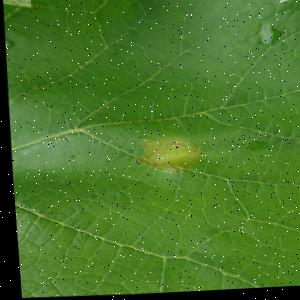Folha: (0, 0, 300, 300)
Fungo: (134, 133, 201, 172), (167, 142, 185, 149)
